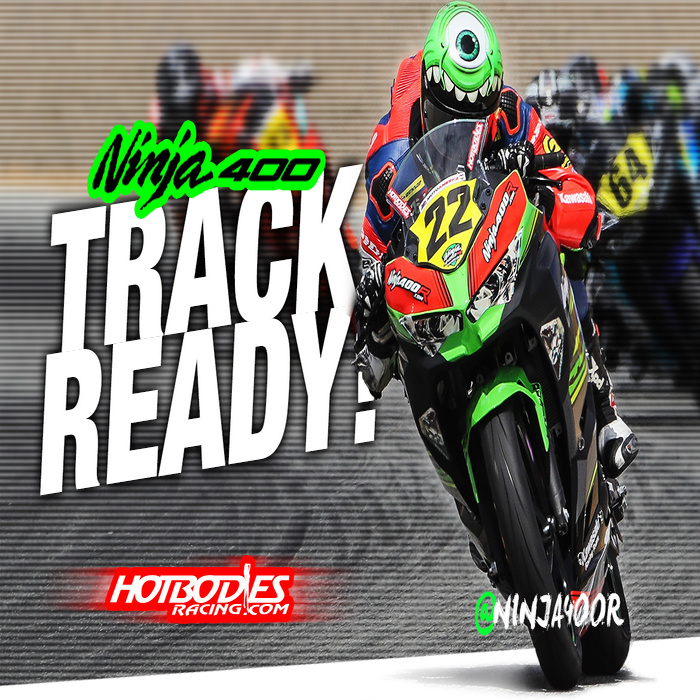h: (420, 1, 508, 172)
